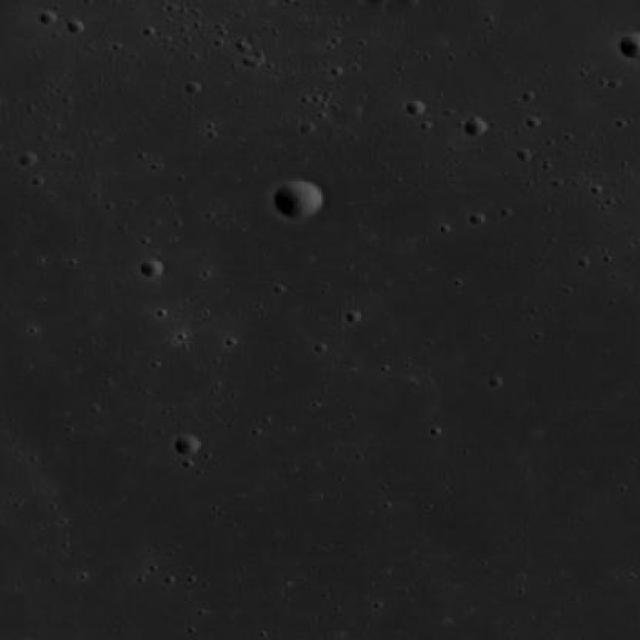crater: (273, 179, 324, 219), (330, 102, 361, 126), (174, 434, 200, 454), (139, 257, 164, 277), (464, 118, 486, 134), (404, 100, 424, 116)
